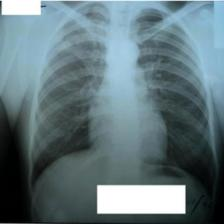tuberculosis: (28, 0, 219, 199)
